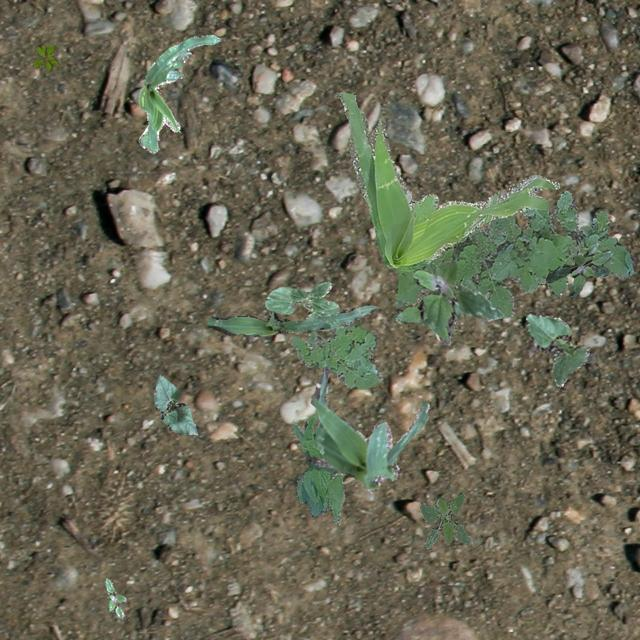crop: (304, 366, 428, 492), (138, 34, 220, 152), (290, 414, 344, 524), (206, 304, 376, 336), (524, 310, 588, 386), (264, 280, 339, 318), (152, 374, 198, 434)
weed: (336, 90, 558, 270), (394, 190, 632, 334), (394, 260, 502, 344), (289, 322, 382, 388), (544, 240, 614, 296), (418, 492, 472, 548), (104, 578, 125, 618), (32, 44, 58, 70)
